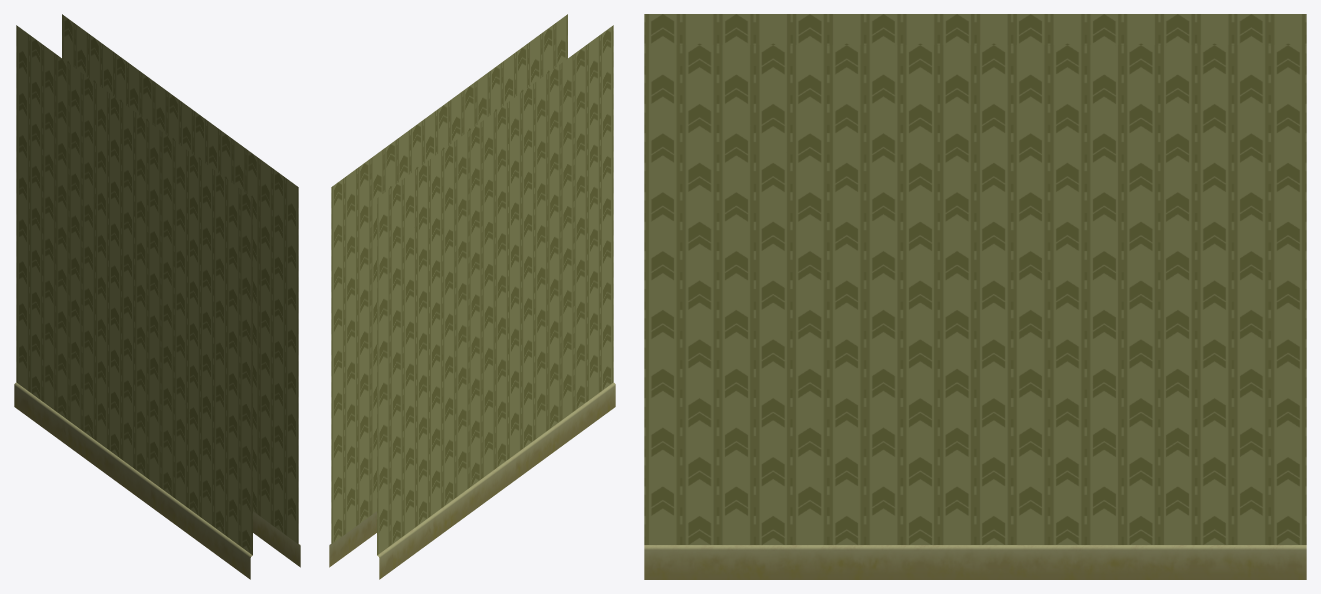
Rendered from WallLeftCutBoth.fbx.
3 renders of one model, left to right at view 1: azimuth 30°, elevation 25°; view 2: azimuth 150°, elevation 25°; view 3: azimuth 270°, elevation 25°, orthographic. The views are drawn at different scales.
Visible parts, largest first — view 1: WallLeftCutBoth; view 2: WallLeftCutBoth; view 3: WallLeftCutBoth.
Part boxes in pixels (<box>): WallLeftCutBoth: <box>14,14,300,579</box>; WallLeftCutBoth: <box>329,14,615,579</box>; WallLeftCutBoth: <box>644,14,1306,579</box>.
Bounding box in the file's own units: 55 × 400 × 450.
